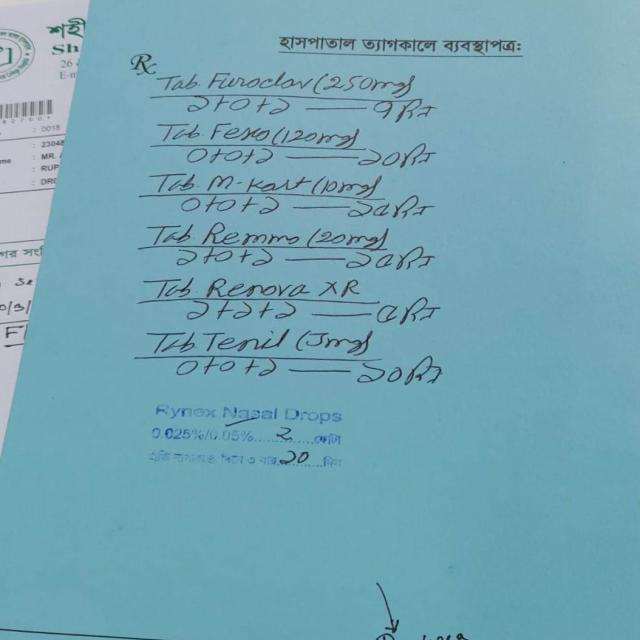Fexo: (210, 117, 275, 145)
Furoclav: (203, 63, 313, 94)
M Kast: (202, 169, 309, 195)
Renova: (206, 272, 367, 301)
Tenil: (198, 322, 293, 356)
remmo: (205, 221, 305, 246)
